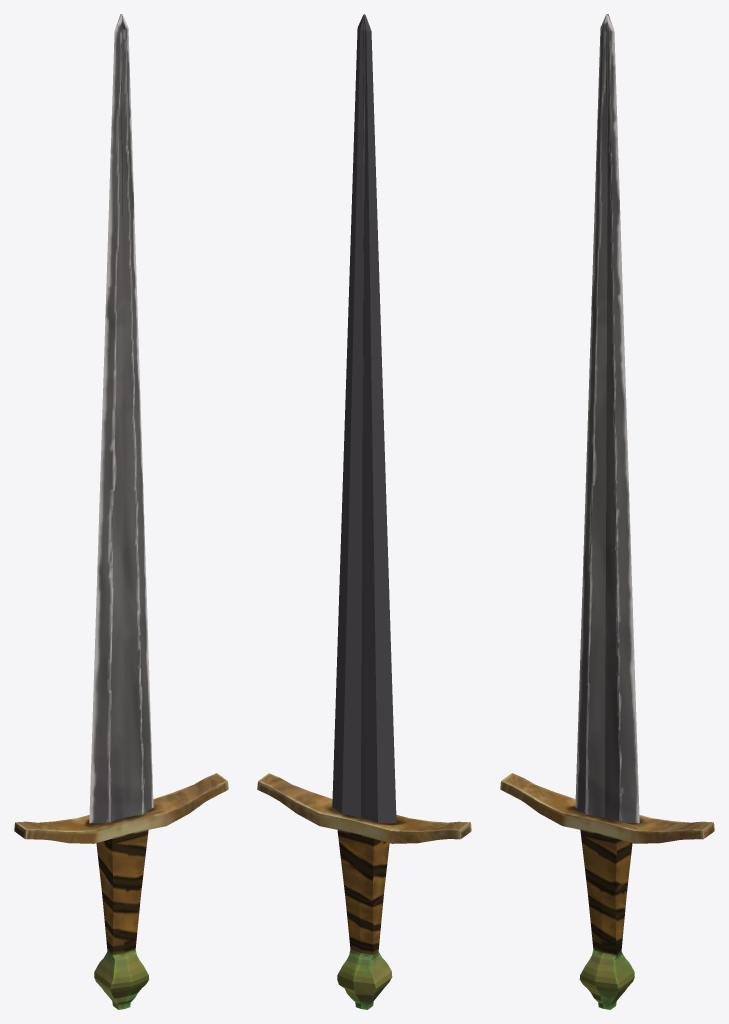
Rendered from sword.fbx.
The picture shows the model from 3 angles, left to right: view 1: azimuth 30°, elevation 25°; view 2: azimuth 150°, elevation 25°; view 3: azimuth 330°, elevation 25°; orthographic projection.
Parts seen in each view (by area): view 1: Cube; view 2: Cube; view 3: Cube.
Boxes of the visible parts, x1,y1,x2,y2 form: Cube: (14,14,228,1009); Cube: (257,14,471,1009); Cube: (500,14,714,1009).
Size of the model in its own units: 221 by 1029 by 43.53.
